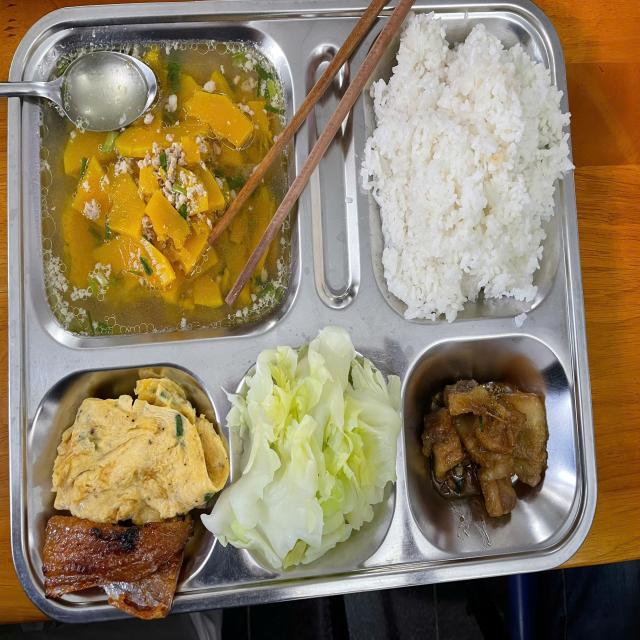cailuoc: (243, 363, 399, 564)
canhbido: (43, 54, 293, 322)
salad: (377, 45, 556, 308)
suonram: (44, 522, 191, 608)
tomramthit: (420, 367, 560, 527)
trungluoc: (57, 388, 216, 523)
